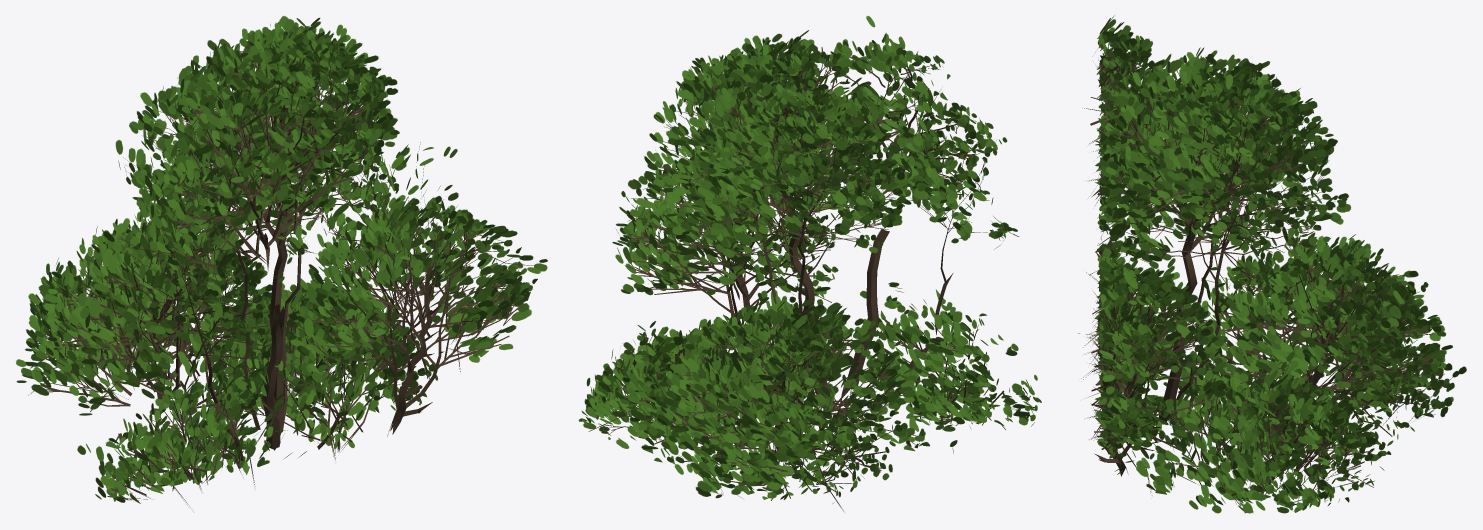
3 views of the same model, side by side, from view 1: azimuth 30°, elevation 25°; view 2: azimuth 150°, elevation 25°; view 3: azimuth 270°, elevation 25° (orthographic). The views are drawn at different scales.
Parts seen in each view (by area): view 1: oak 01.001_trunk_Mat.001_0.425; view 2: oak 01.001_trunk_Mat.001_0.425; view 3: oak 01.001_trunk_Mat.001_0.425.
Boxes of the visible parts, bbox=[...] form: oak 01.001_trunk_Mat.001_0.425: bbox=[16, 16, 547, 509]; oak 01.001_trunk_Mat.001_0.425: bbox=[579, 16, 1041, 511]; oak 01.001_trunk_Mat.001_0.425: bbox=[1078, 15, 1466, 513].
Size of the model in its own units: 4.83 by 4.24 by 3.74.
Materials: 2 (1 with a texture image).
